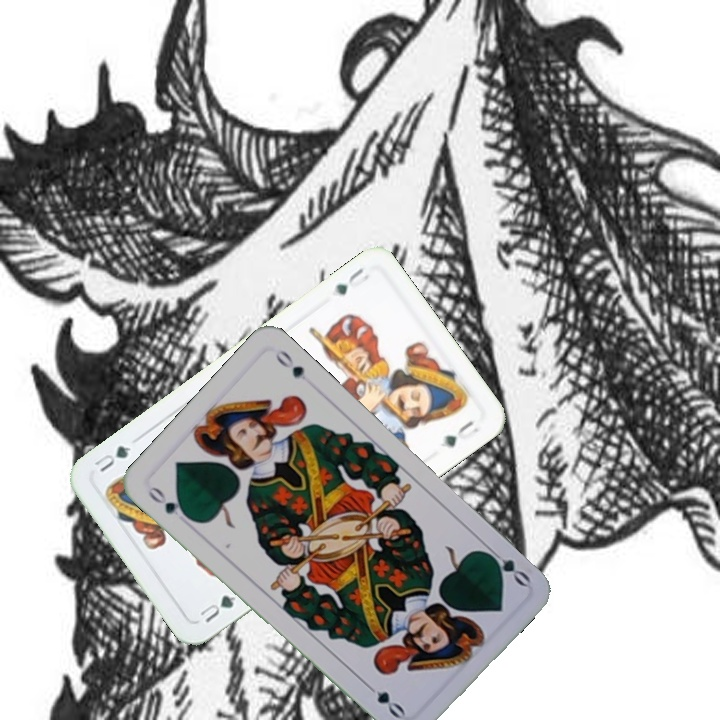GO: (480, 542, 533, 589), (143, 482, 194, 523)
GU: (195, 591, 239, 626), (330, 264, 372, 298)
